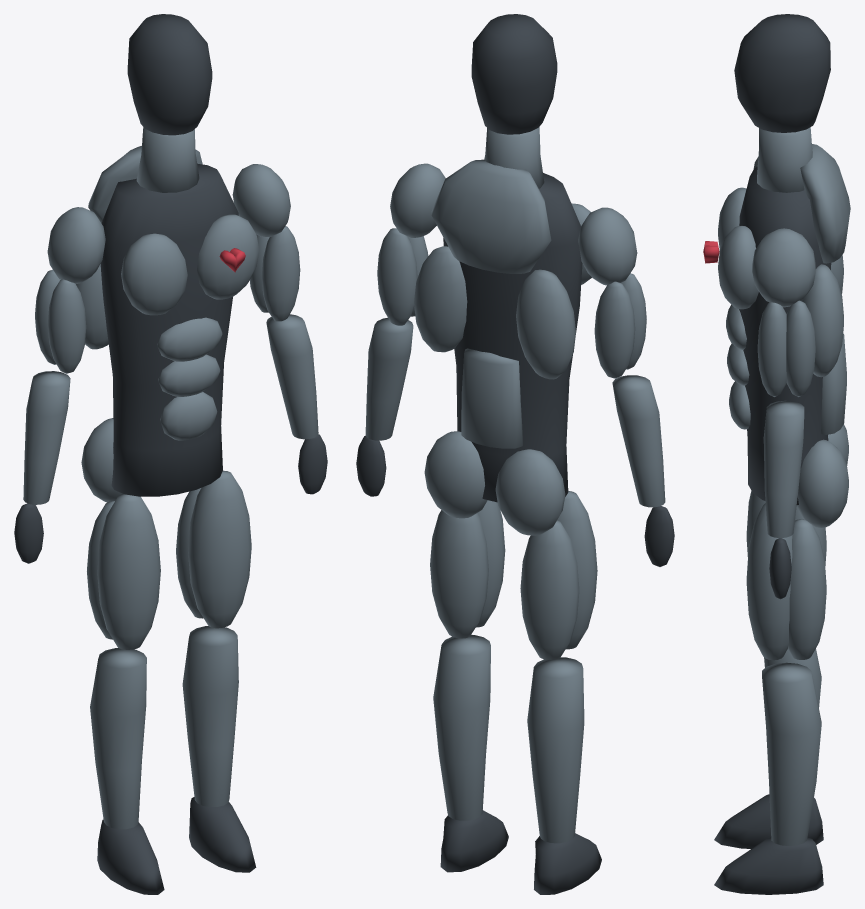
The model's file is human_body.obj.
3 renders of one model, left to right at view 1: azimuth 30°, elevation 25°; view 2: azimuth 150°, elevation 25°; view 3: azimuth 270°, elevation 25°, orthographic.
Visible parts, largest first — view 1: torso_core, calves, quads, forearms, head, chest, feet, shoulders, abs, biceps, neck, hamstrings (+5 smaller); view 2: calves, torso_core, hamstrings, back_upper, back_lats, forearms, glutes, head, shoulders, triceps, feet, back_lower (+4 smaller); view 3: calves, head, torso_core, feet, forearms, quads, hamstrings, shoulders, glutes, back_upper, chest, back_lats (+7 smaller).
Boxes of the visible parts, <box> form: torso_core: <box>100,163,238,496</box>; calves: <box>90,626,238,829</box>; quads: <box>97,470,251,649</box>; forearms: <box>23,314,318,504</box>; head: <box>127,14,212,135</box>; chest: <box>121,214,259,315</box>; feet: <box>97,797,256,894</box>; shoulders: <box>47,164,290,283</box>; abs: <box>157,317,222,440</box>; biceps: <box>47,226,300,373</box>; neck: <box>136,127,199,192</box>; hamstrings: <box>87,488,203,639</box>; calves: <box>433,634,584,843</box>; torso_core: <box>443,173,582,502</box>; hamstrings: <box>430,510,579,659</box>; back_upper: <box>431,159,551,273</box>; back_lats: <box>414,246,575,379</box>; forearms: <box>365,317,665,507</box>; glutes: <box>424,431,565,535</box>; head: <box>471,14,557,134</box>; shoulders: <box>390,163,637,285</box>; triceps: <box>377,228,635,378</box>; feet: <box>440,810,601,894</box>; back_lower: <box>461,348,523,448</box>; calves: <box>762,649,821,845</box>; head: <box>734,14,830,132</box>; torso_core: <box>739,166,831,504</box>; feet: <box>714,794,823,894</box>; forearms: <box>763,400,804,538</box>; quads: <box>746,490,792,660</box>; hamstrings: <box>788,505,826,659</box>; shoulders: <box>752,157,815,307</box>; glutes: <box>797,424,848,527</box>; back_upper: <box>800,144,850,263</box>; chest: <box>718,187,758,309</box>; back_lats: <box>802,255,843,377</box>.
Size of the model in its own units: 0.7137 by 1.84 by 0.29.
